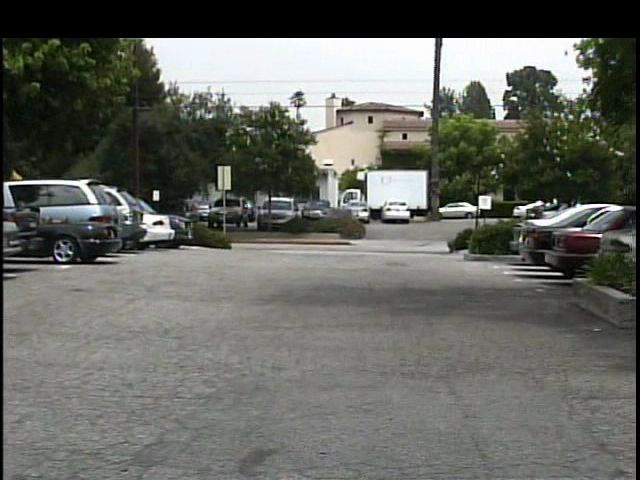person: (175, 201, 195, 240)
